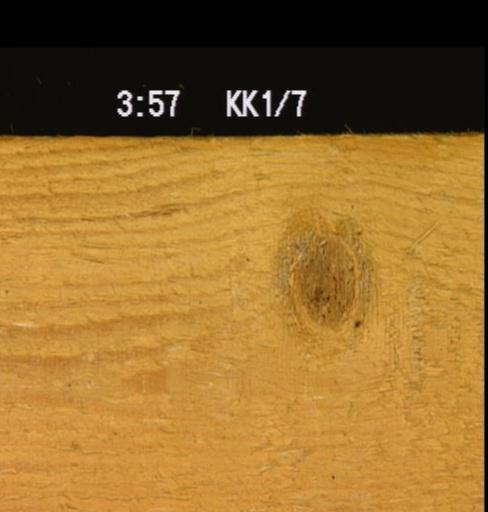sound_knot: (276, 214, 374, 342)
